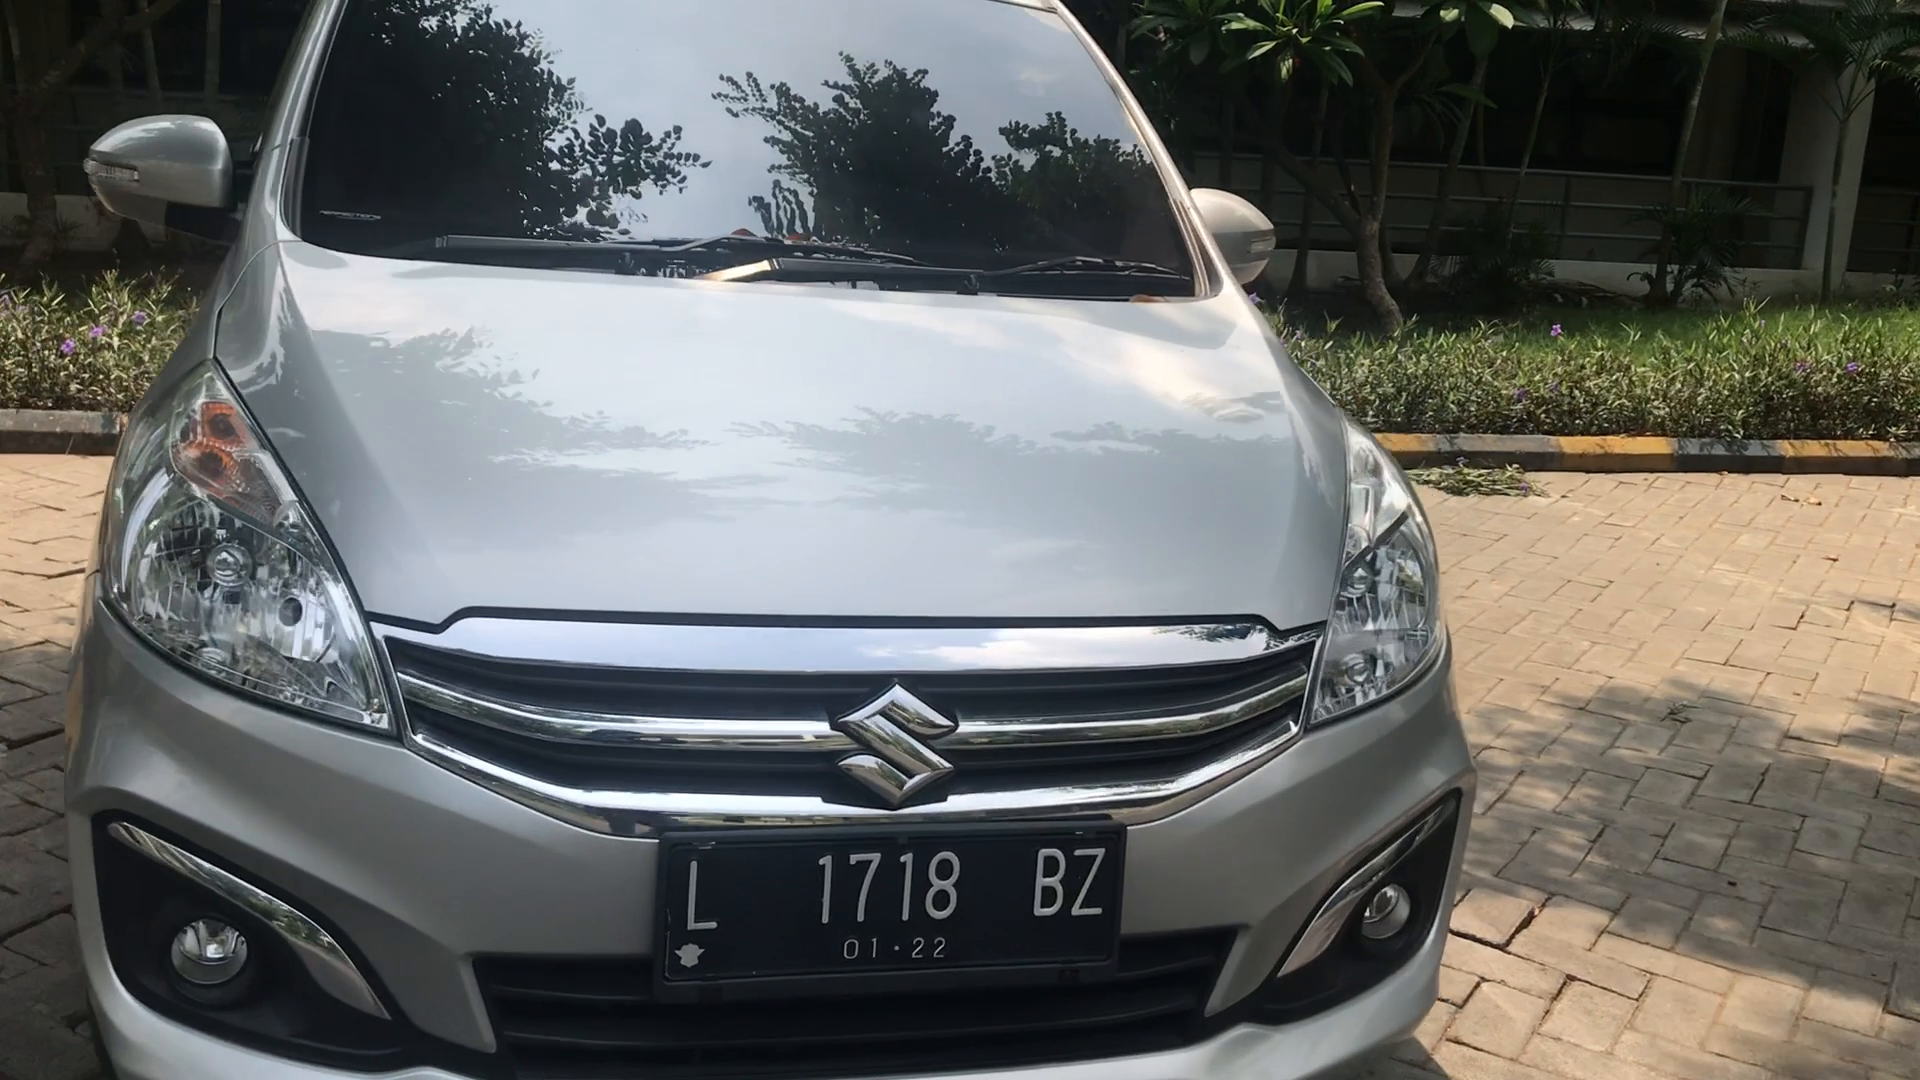plate: (657, 830, 1122, 967)
